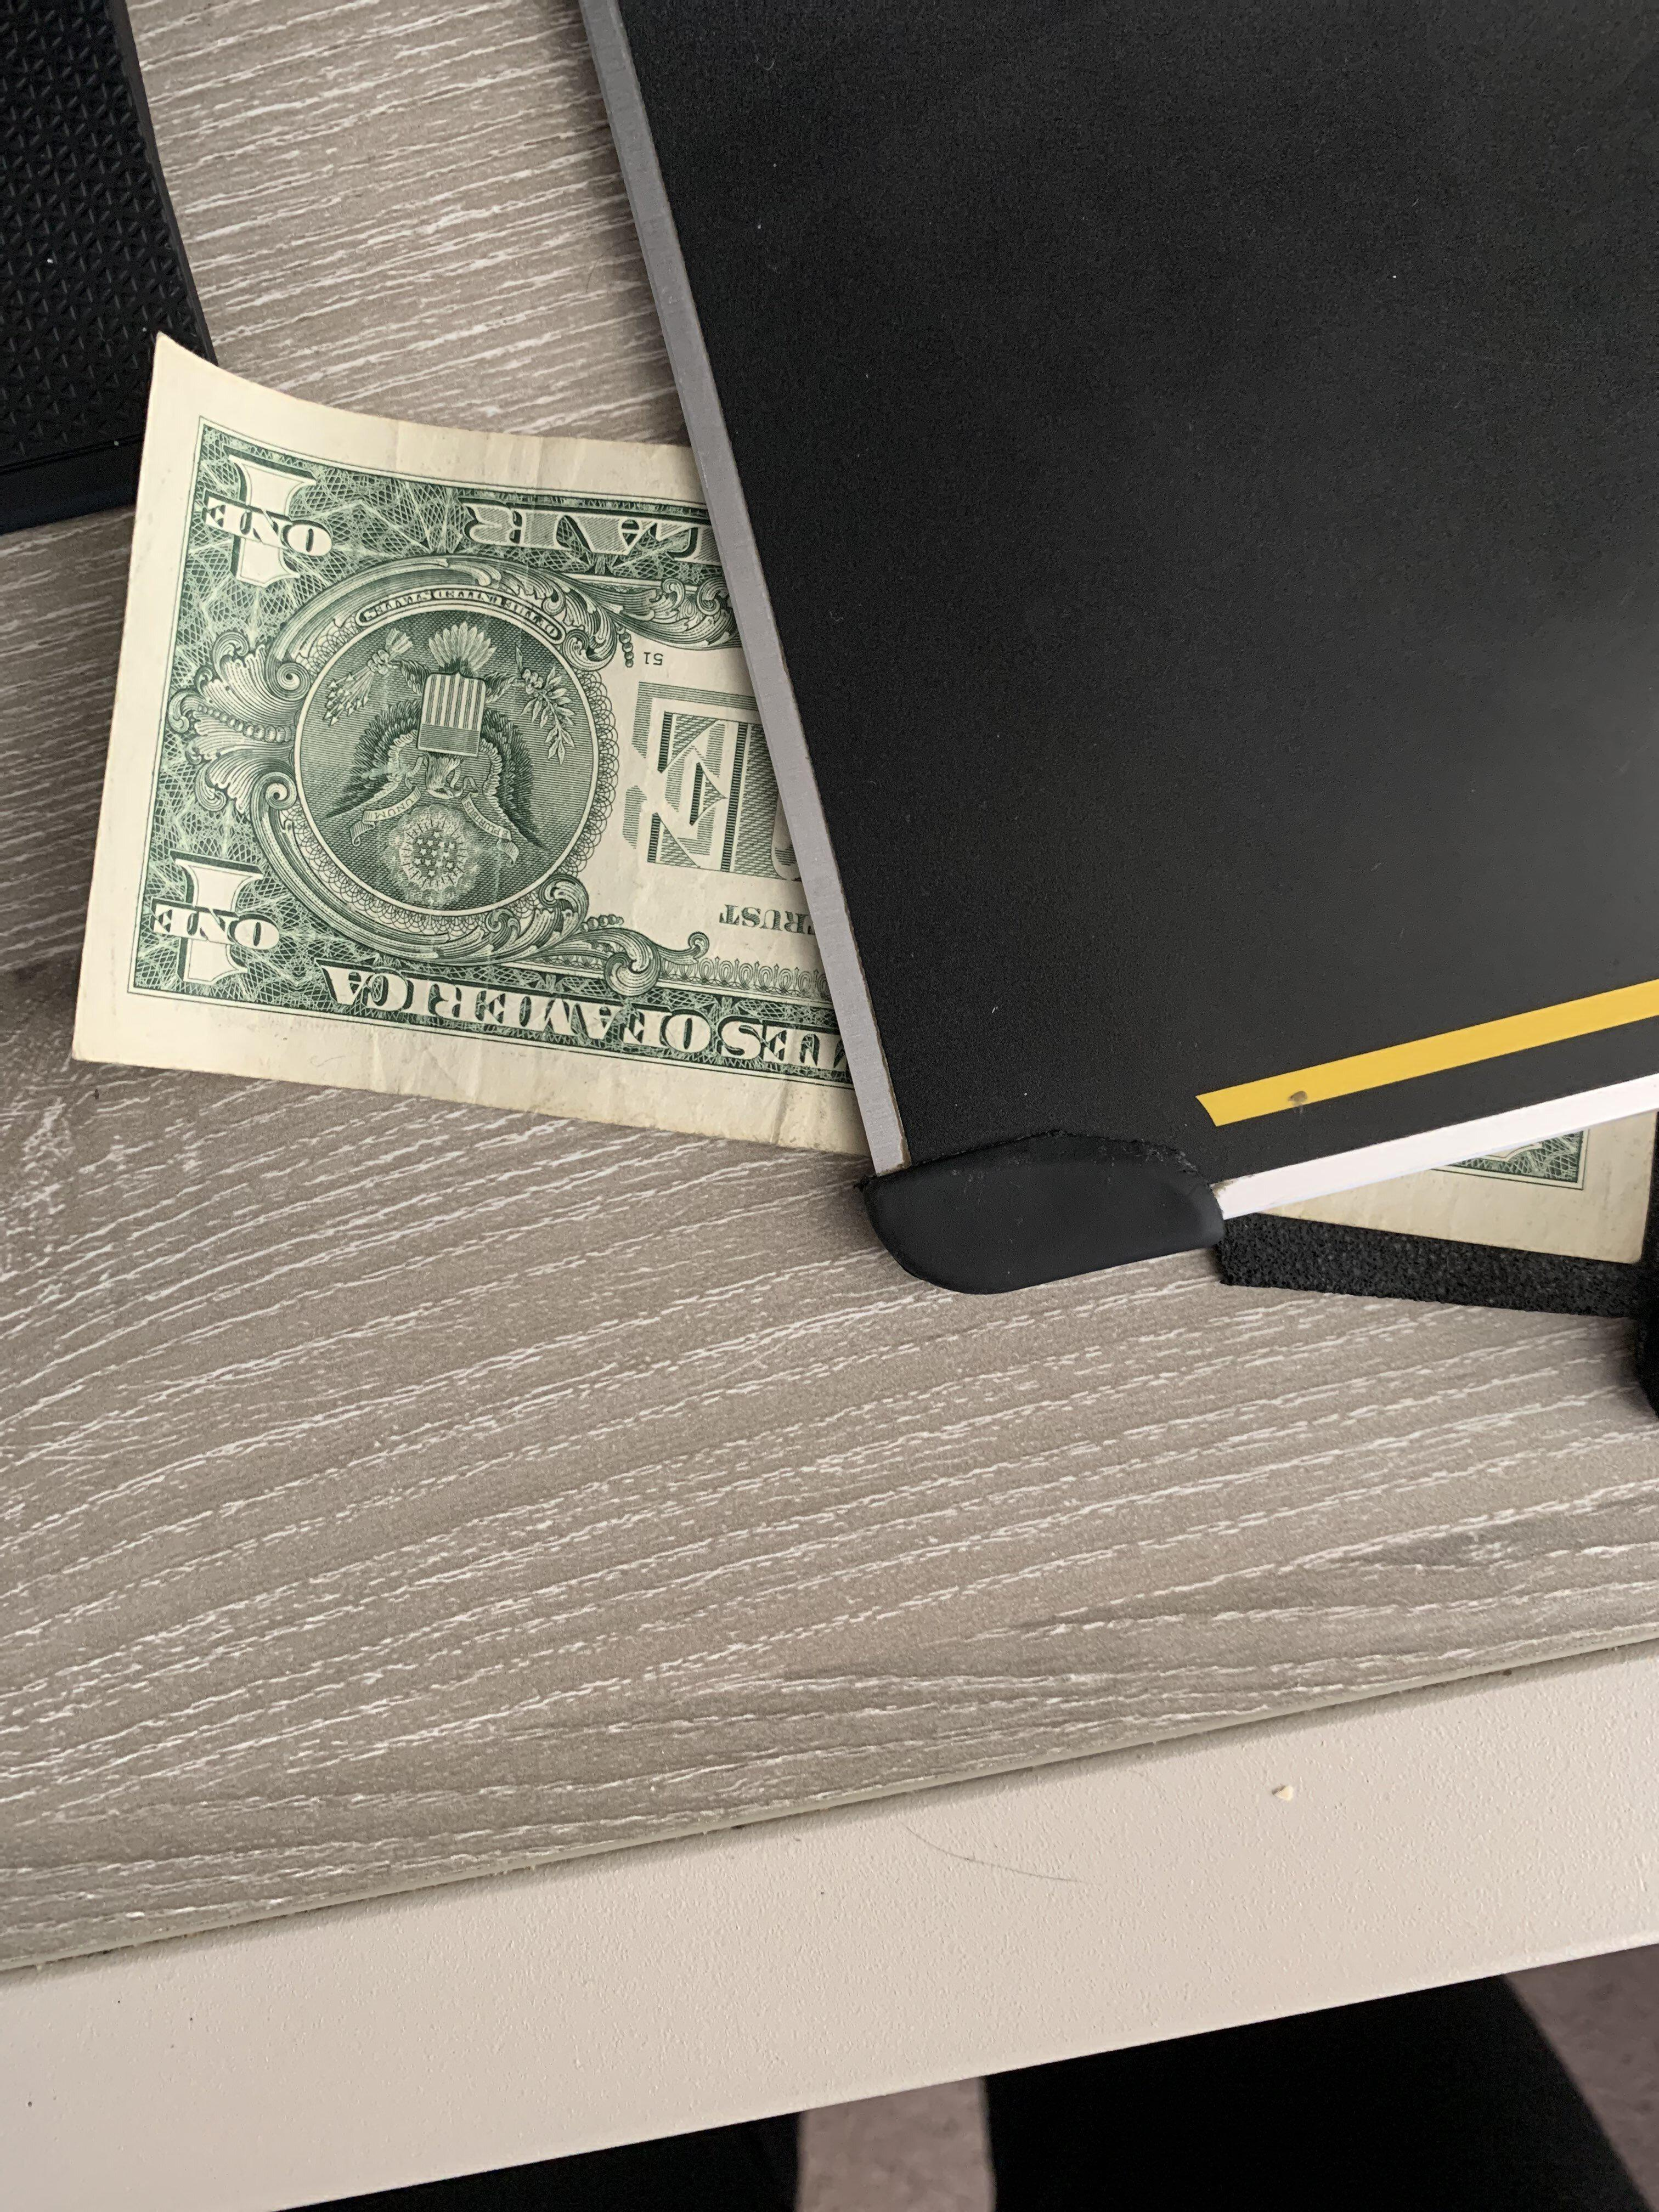OneBill: (56, 244, 1657, 1460)
